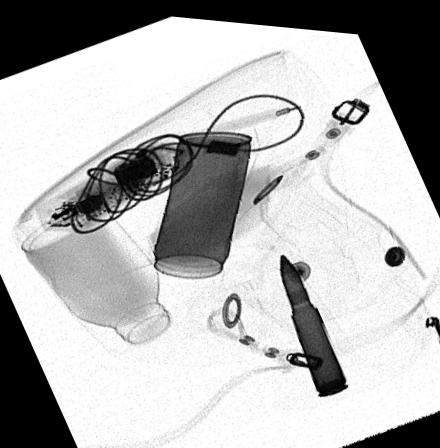Bullet: (279, 245, 349, 390)
